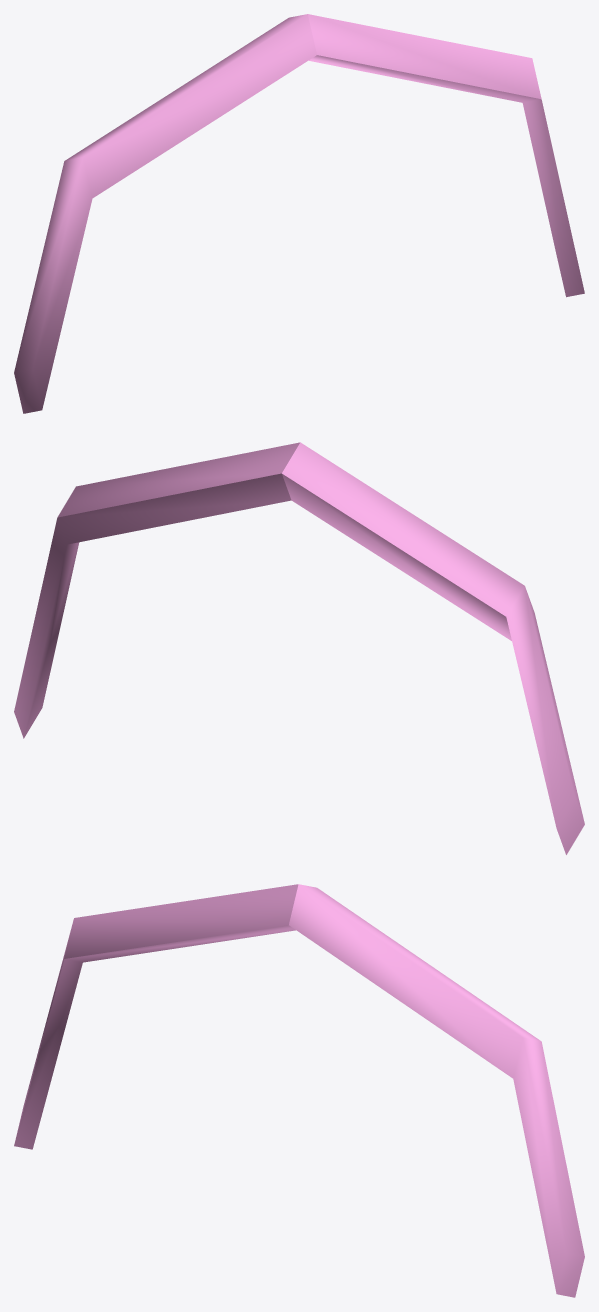
Rendered from Headband.fbx.
3 renders of one model, top to bottom at view 1: azimuth 30°, elevation 25°; view 2: azimuth 150°, elevation 25°; view 3: azimuth 330°, elevation 25°, orthographic.
Visible parts, largest first — view 1: Headband_Baked; view 2: Headband_Baked; view 3: Headband_Baked.
Boxes of the visible parts, x1,y1,x2,y2 form: Headband_Baked: (14, 14, 584, 413); Headband_Baked: (14, 442, 584, 854); Headband_Baked: (14, 884, 584, 1297).
Size of the model in its own units: 117 by 72.99 by 10.56.
1 material, 1 textured.
